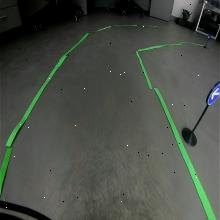left: (207, 80, 220, 105)
